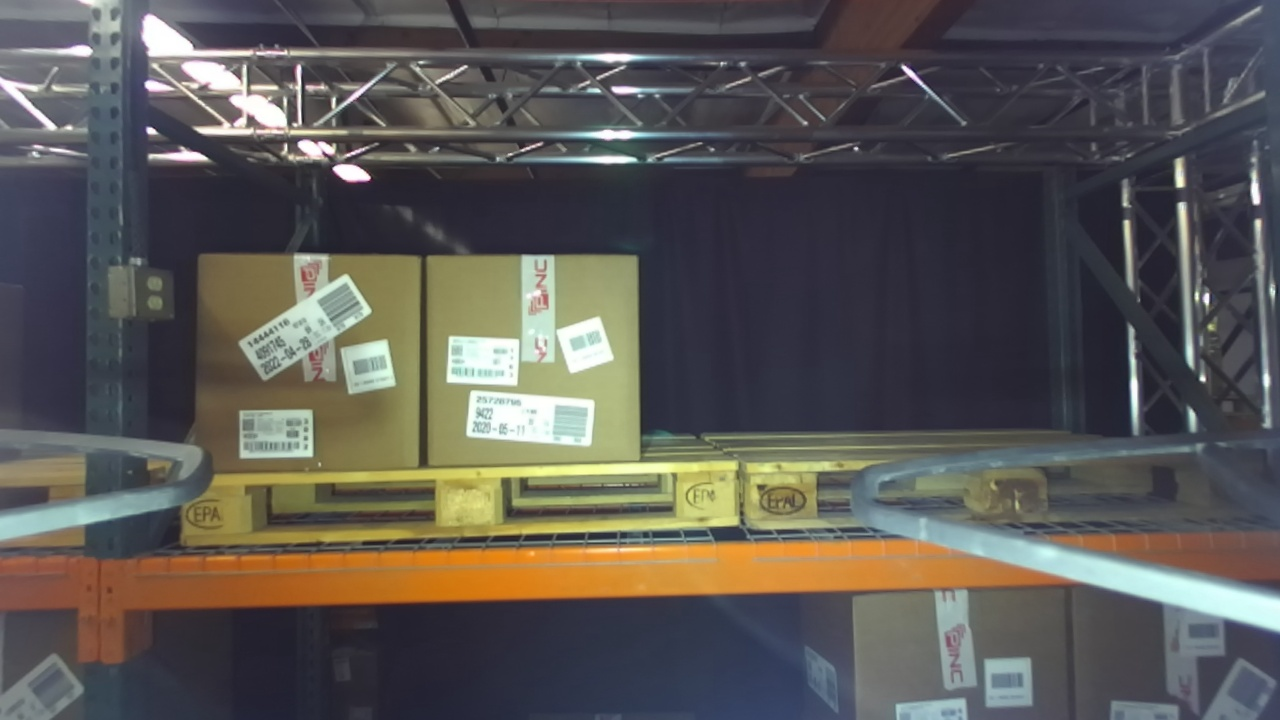box: (408, 220, 677, 496), (176, 229, 438, 503)
